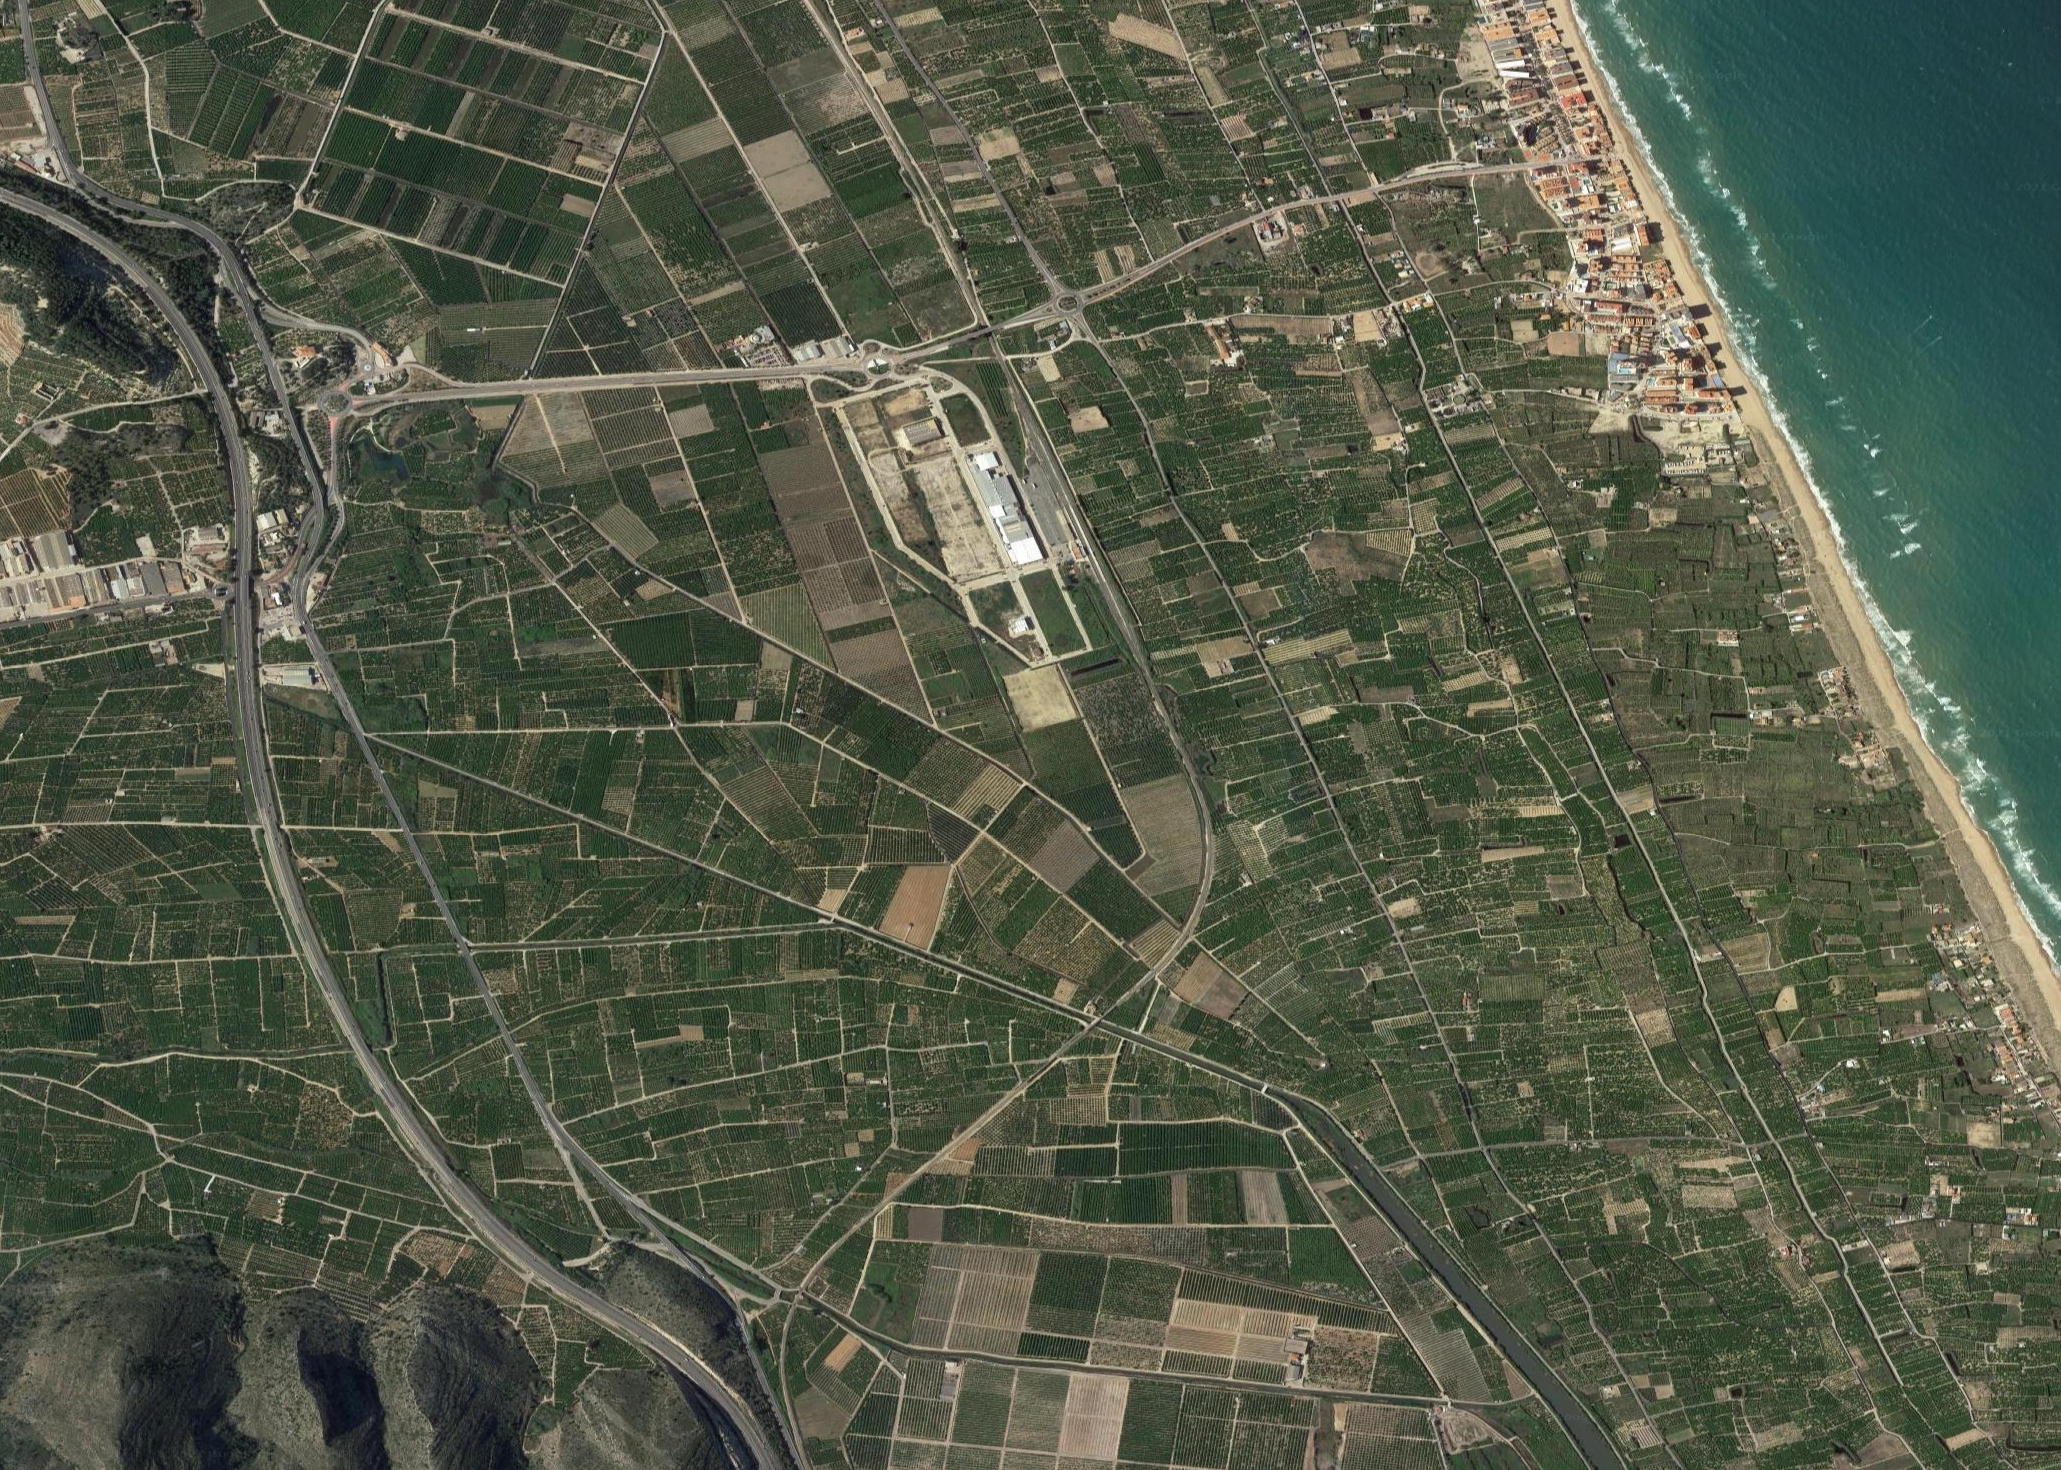industrial: (929, 415, 1093, 620)
motorway: (363, 1037, 789, 1468), (216, 729, 495, 1039), (196, 340, 353, 730), (2, 162, 281, 363), (372, 345, 856, 410)
